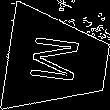M_E: (27, 35, 88, 88)
